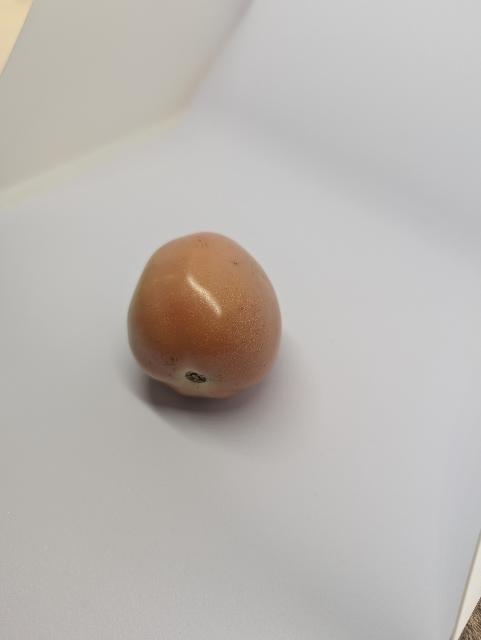turning: (120, 224, 287, 410)
